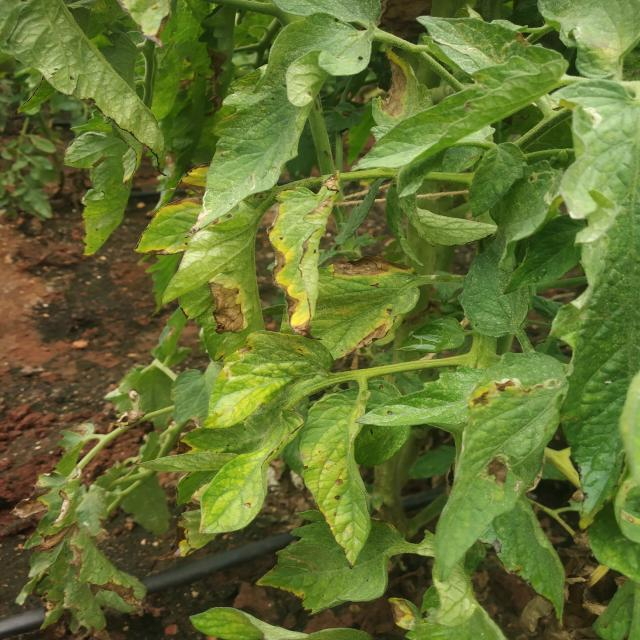Tomato mosaic virus leaf: (128, 160, 260, 338), (295, 393, 376, 572), (262, 170, 344, 343), (316, 252, 423, 362), (365, 45, 441, 143)
